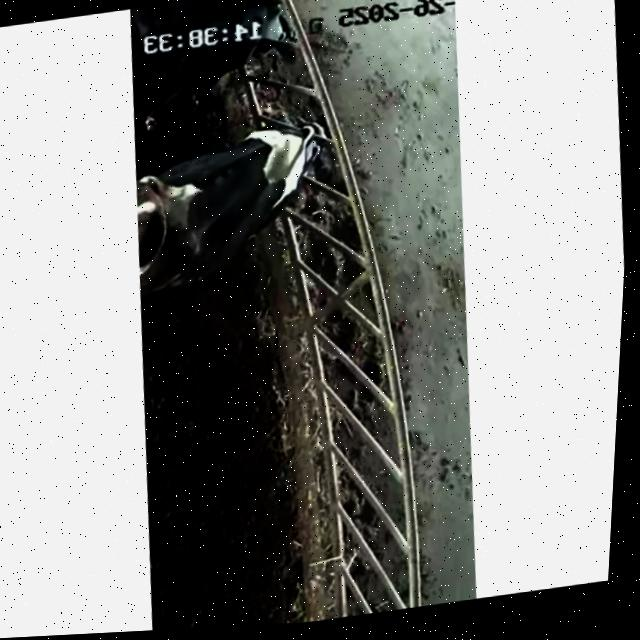eat: (201, 96, 383, 245), (182, 0, 355, 94)
